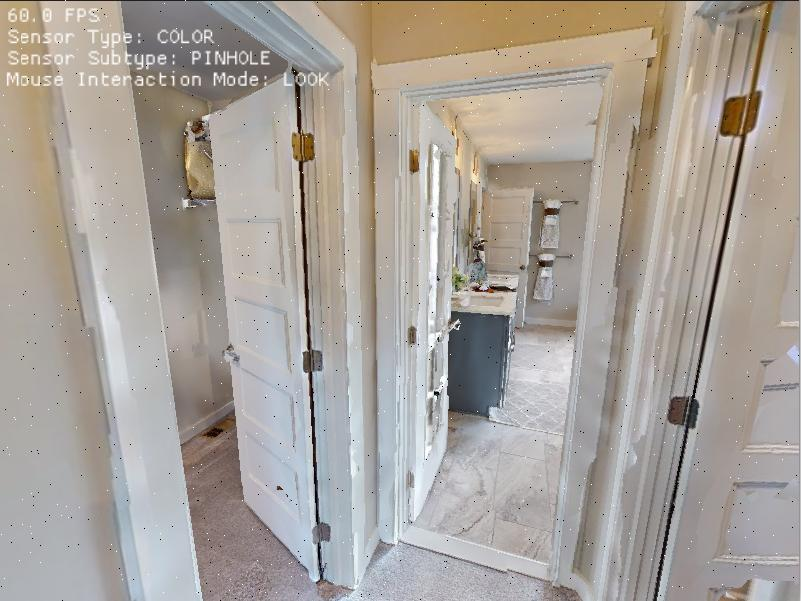door: (176, 70, 324, 576)
door-frame: (22, 0, 370, 601), (371, 24, 666, 577)
